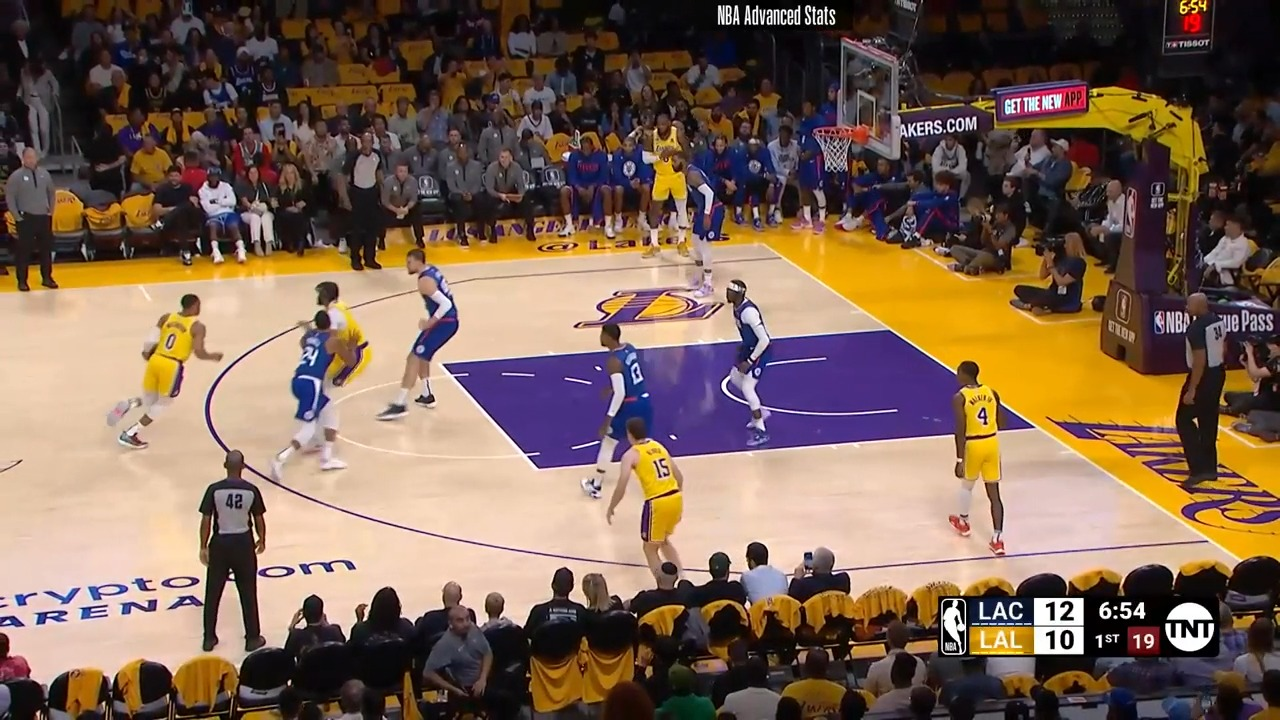net: (813, 122, 877, 183)
player: (104, 290, 223, 452), (943, 359, 1018, 559), (606, 413, 692, 584), (281, 309, 361, 483), (387, 245, 462, 423), (312, 279, 377, 475), (577, 320, 647, 500), (703, 277, 773, 442), (656, 150, 726, 313), (637, 112, 693, 257)
referee: (197, 451, 279, 665), (1170, 272, 1229, 496), (343, 127, 415, 275)
